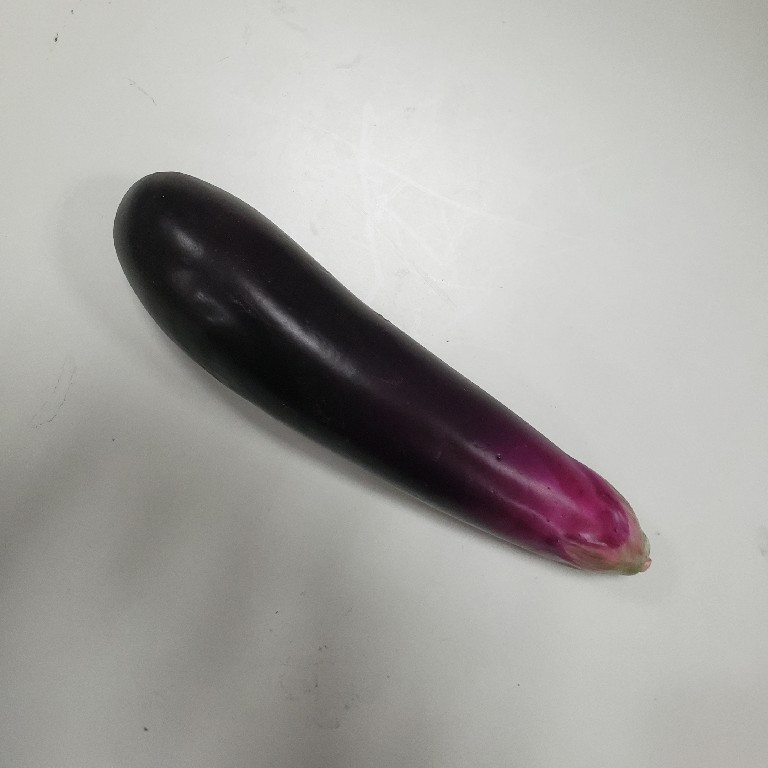fruit_eggplant: (109, 166, 655, 581)
